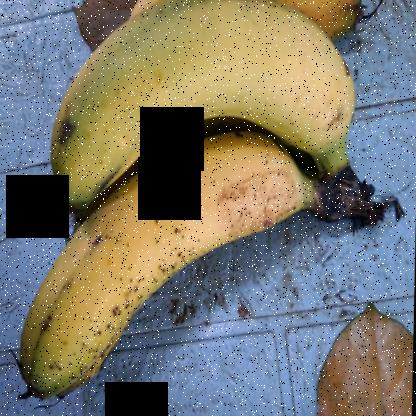freshripe: (60, 0, 363, 207)
ripe: (4, 127, 318, 415)
